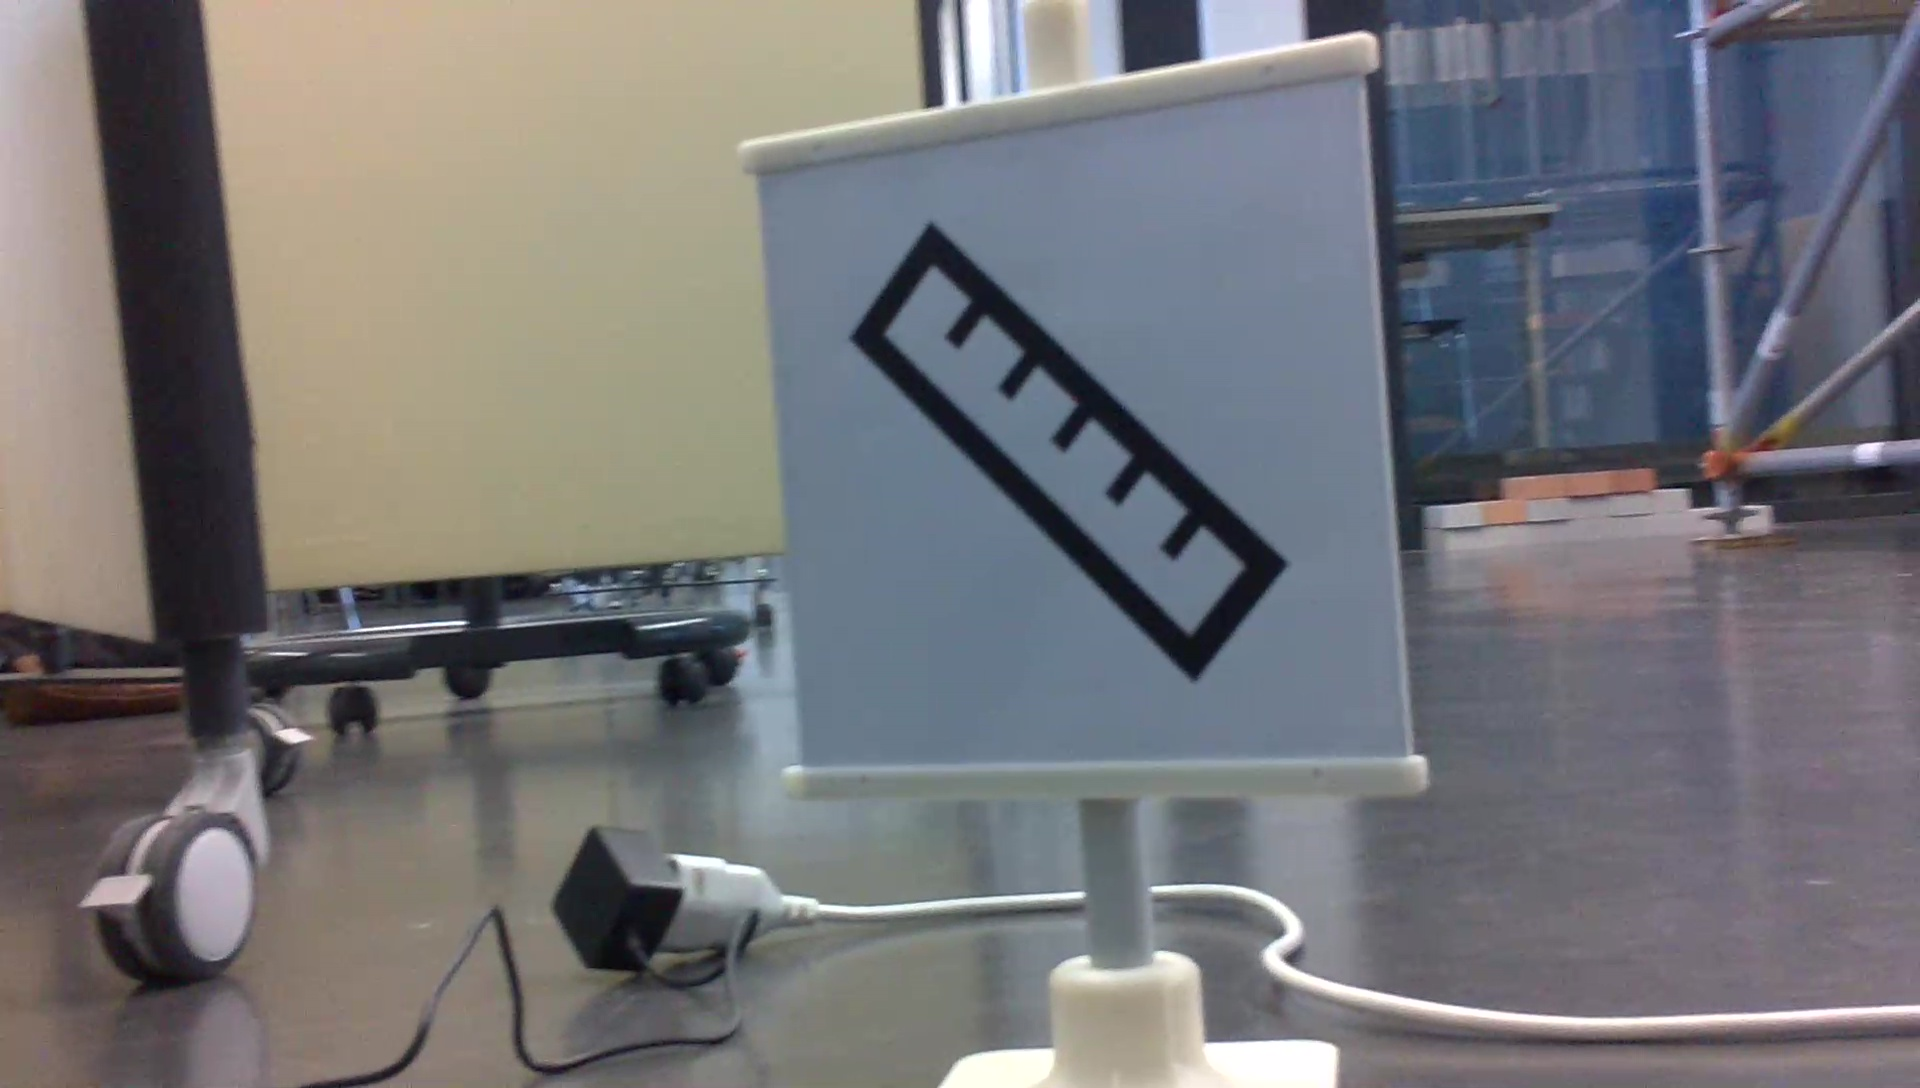ruler: (835, 210, 1317, 684)
